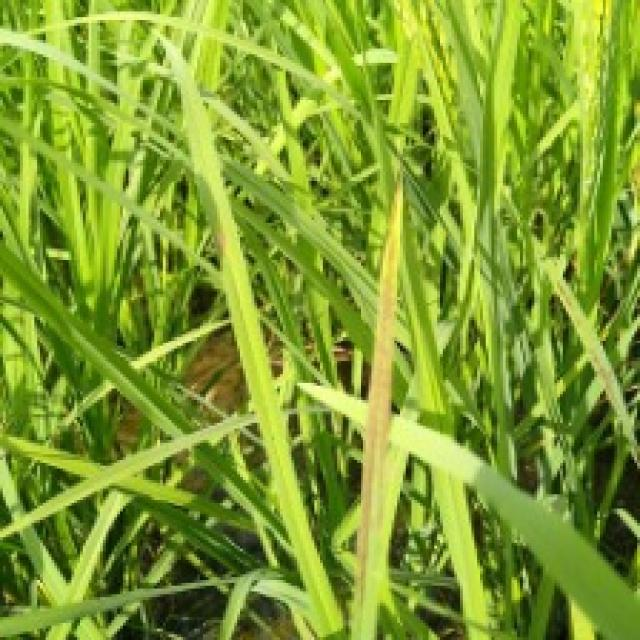Unhealthy: (354, 223, 396, 610), (215, 232, 231, 256)
